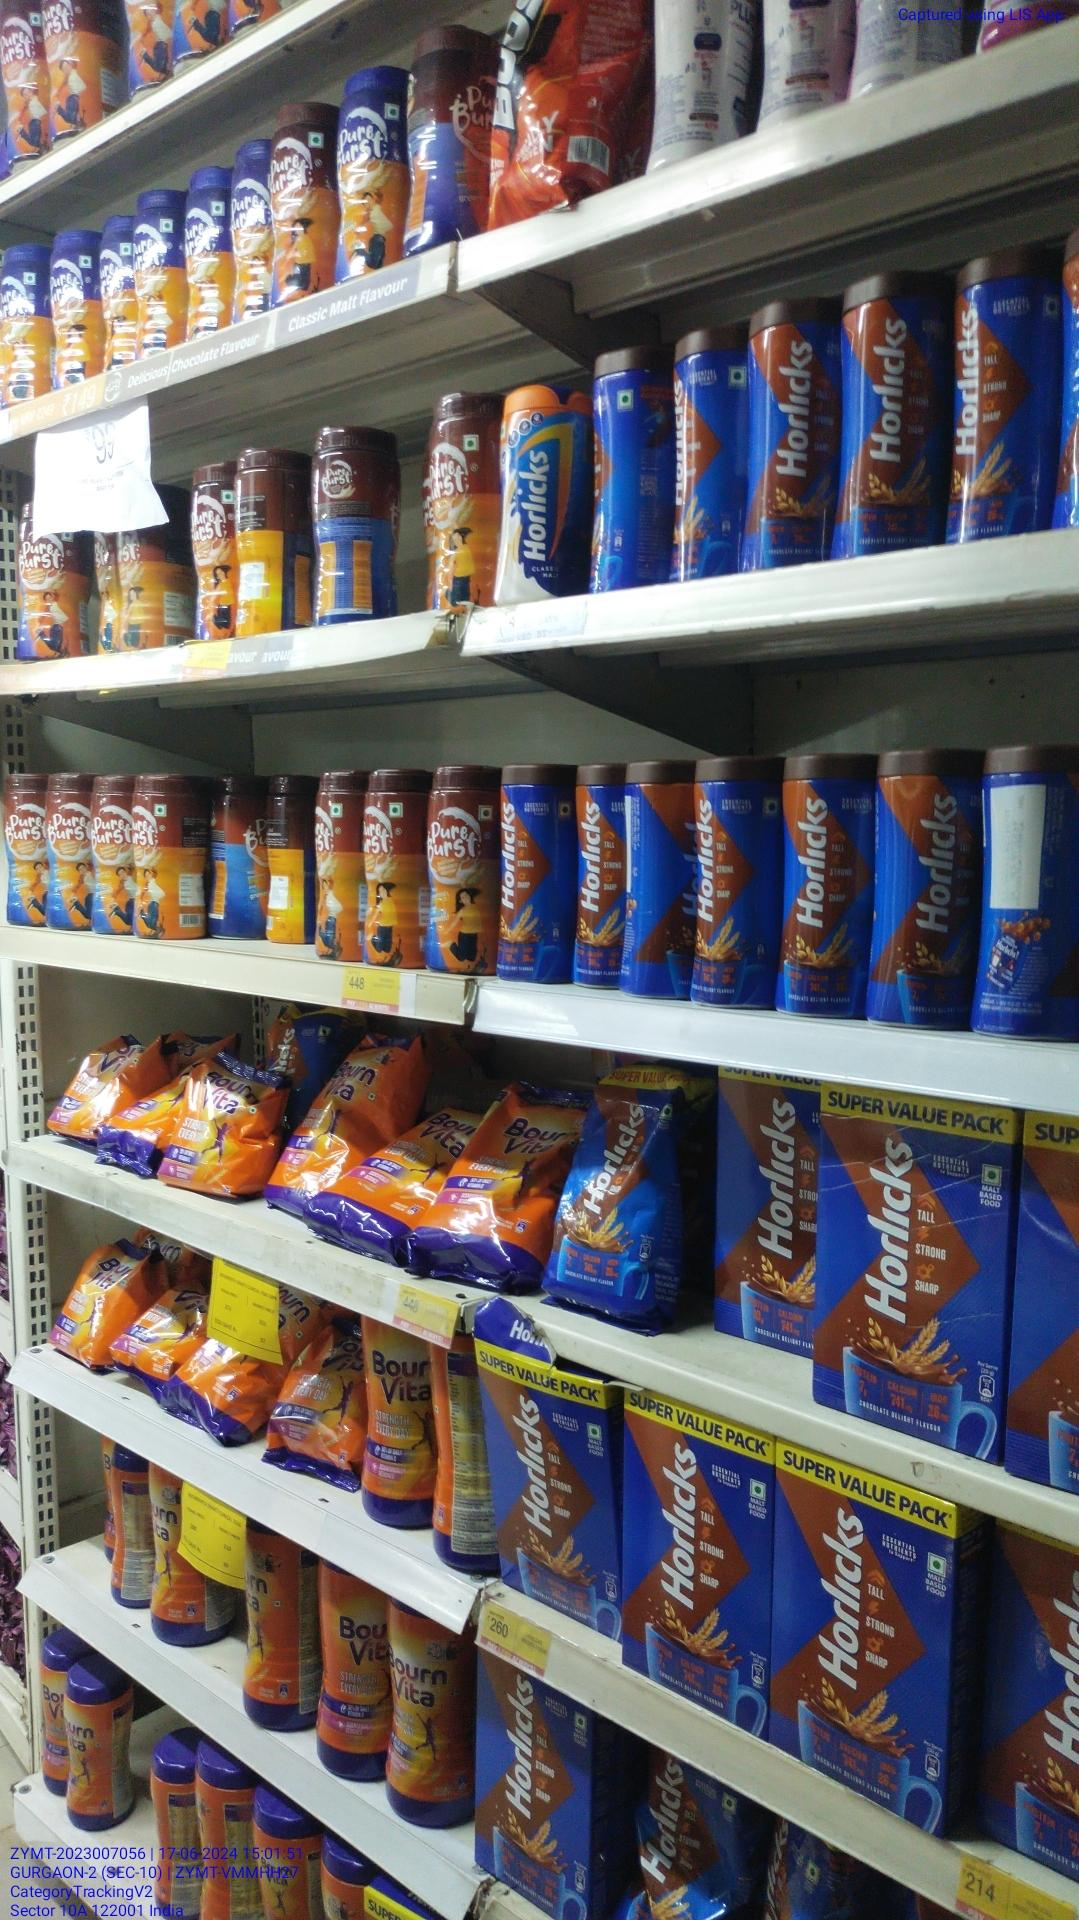BOURN_VITA_200_G_JAR: (65, 1659, 117, 1828)
BOURN_VITA_500_G_JAR: (388, 1602, 468, 1833), (313, 1584, 385, 1782), (363, 1323, 435, 1519)
HORLICK_CHOCOLATE_1_KG_PACK: (818, 1089, 1013, 1448), (777, 1465, 955, 1800), (623, 1395, 768, 1734), (481, 1348, 612, 1631), (718, 1068, 814, 1360)
HORLICK_CHOCOLATE_500_G_JAR: (836, 272, 950, 551), (954, 251, 1055, 538), (875, 741, 975, 1030), (745, 299, 832, 567), (781, 754, 865, 1021), (695, 757, 777, 1015), (499, 761, 574, 986), (575, 758, 624, 986)
HORLICK_CHOCOLATE_750_G_POUCH: (557, 1072, 683, 1317)
HORLICK_CLASSIC_MALT_500_G_JAR: (493, 382, 594, 599)
